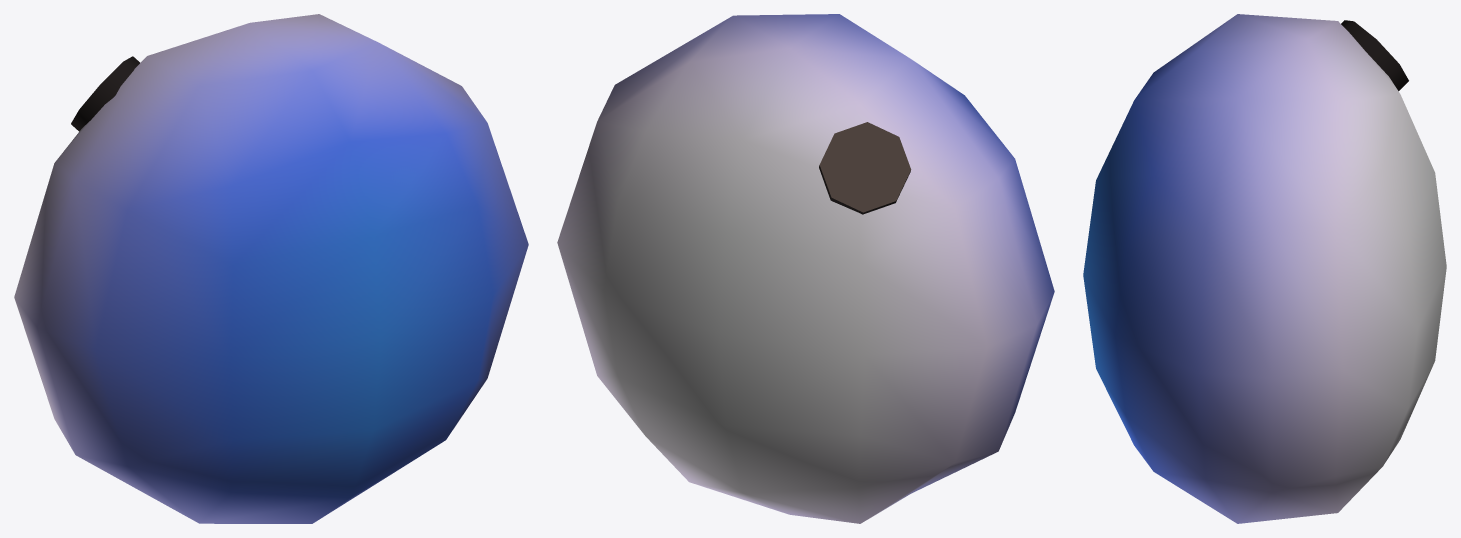
File: IglooSnowmanBase.fbx
3 views of the same model, side by side, from view 1: azimuth 30°, elevation 25°; view 2: azimuth 150°, elevation 25°; view 3: azimuth 270°, elevation 25° (orthographic). The views are drawn at different scales.
Parts seen in each view (by area): view 1: IglooSnowmanBase; view 2: IglooSnowmanBase; view 3: IglooSnowmanBase.
Boxes of the visible parts, <box> form: IglooSnowmanBase: <box>14,14,528,523</box>; IglooSnowmanBase: <box>557,14,1054,523</box>; IglooSnowmanBase: <box>1083,14,1446,523</box>.
Bounding box in the file's own units: 47.52 × 45.93 × 33.19.
